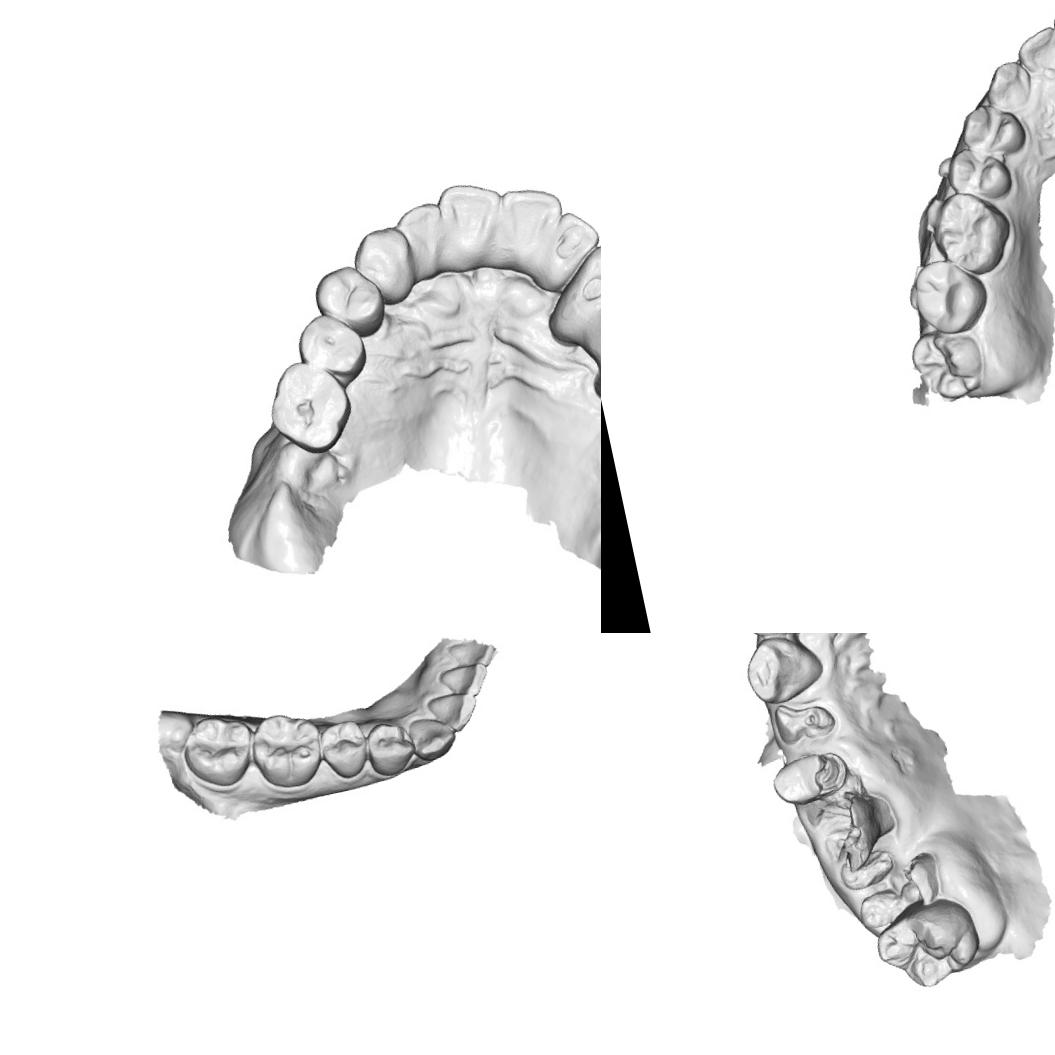canine: (734, 633, 829, 709), (347, 222, 421, 303), (549, 237, 601, 328), (979, 56, 1038, 118), (404, 711, 460, 765)
incisor: (432, 175, 510, 256), (486, 179, 568, 250), (392, 199, 450, 268), (542, 204, 601, 267), (424, 688, 484, 739), (436, 660, 492, 705), (1011, 23, 1055, 78), (444, 633, 501, 674)
molar: (866, 891, 989, 998), (261, 351, 358, 461), (920, 182, 1019, 284), (902, 251, 995, 342), (243, 705, 331, 796), (175, 706, 262, 795), (906, 322, 990, 408)
premolar: (306, 258, 392, 346), (290, 308, 368, 388), (956, 96, 1031, 165), (941, 140, 1015, 208), (360, 714, 421, 780), (316, 716, 374, 785), (582, 283, 601, 356)
